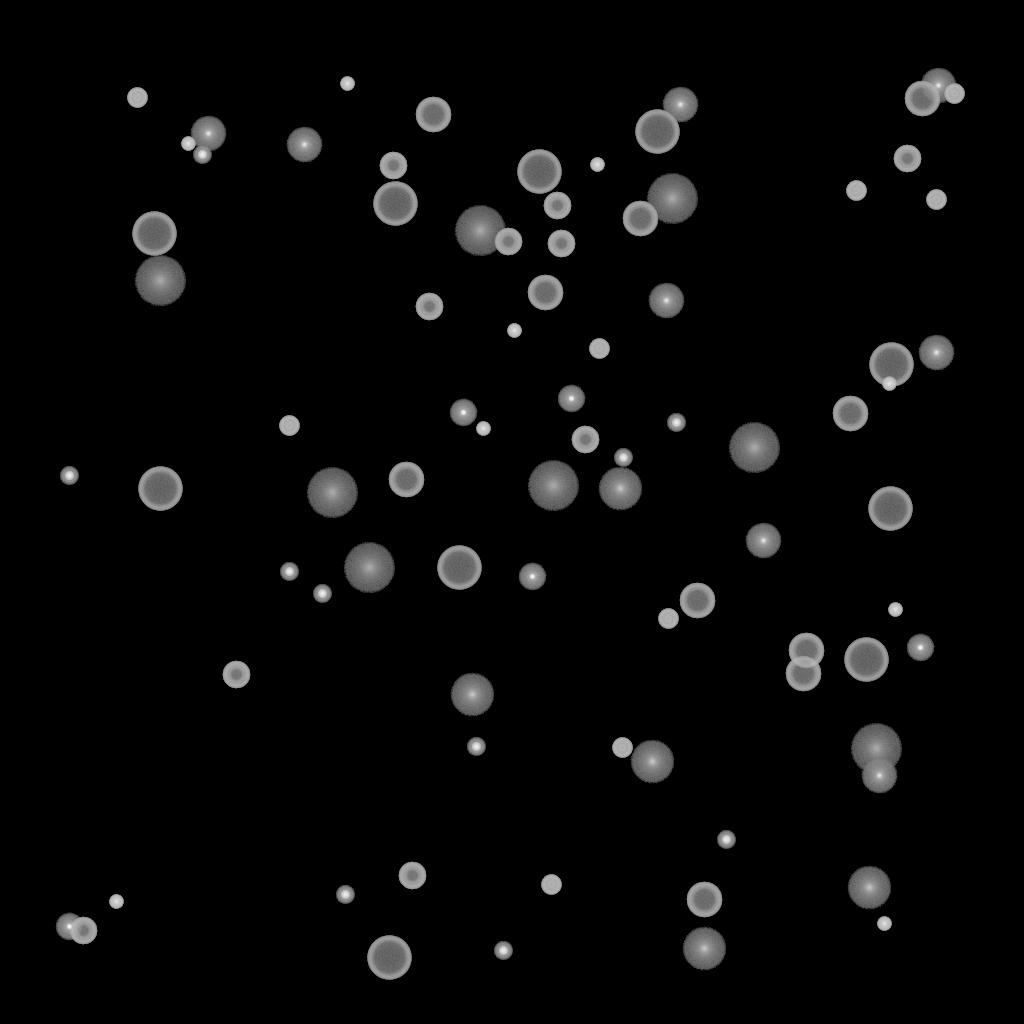depth:-10: (557, 385, 585, 413), (518, 563, 546, 591), (55, 913, 83, 941), (449, 399, 477, 427), (906, 634, 934, 662)
depth:-20: (667, 414, 685, 432), (193, 146, 211, 164), (280, 563, 298, 581), (494, 942, 512, 960), (614, 449, 632, 467), (336, 886, 354, 904), (313, 585, 331, 603), (467, 738, 485, 756), (717, 831, 735, 849), (60, 467, 78, 485)
depth:-30: (181, 137, 195, 151), (340, 77, 354, 91), (476, 422, 490, 436), (882, 377, 896, 391), (877, 917, 891, 931), (590, 158, 604, 172), (109, 895, 123, 909), (888, 603, 902, 617), (507, 324, 521, 338)
depth:-40: (279, 416, 299, 436), (589, 339, 609, 359), (846, 181, 866, 201), (944, 84, 964, 104), (612, 738, 632, 758), (127, 88, 147, 108), (658, 609, 678, 629), (541, 875, 561, 895), (926, 190, 946, 210)
depth:-50: (415, 293, 443, 321), (69, 917, 97, 945), (398, 862, 426, 890), (547, 230, 575, 258), (494, 228, 522, 256), (893, 145, 921, 173), (222, 661, 250, 689), (379, 152, 407, 180), (571, 426, 599, 454), (543, 192, 571, 220)
depth:-60: (622, 201, 658, 237), (832, 396, 868, 432), (527, 275, 563, 311), (686, 882, 722, 918), (415, 97, 451, 133), (904, 81, 940, 117), (679, 583, 715, 619), (388, 462, 424, 498), (788, 633, 824, 669), (785, 656, 821, 692)
depth:-70: (132, 212, 176, 256), (437, 546, 481, 590), (138, 467, 182, 511), (844, 638, 888, 682), (517, 150, 561, 194), (635, 110, 679, 154), (373, 182, 417, 226), (868, 487, 912, 531), (869, 343, 913, 387), (367, 936, 411, 980)
depth:0: (648, 283, 684, 319), (745, 523, 781, 559), (861, 758, 897, 794), (286, 127, 322, 163), (920, 68, 956, 104), (662, 87, 698, 123), (918, 335, 954, 371), (190, 116, 226, 152)
depth:10: (598, 467, 642, 511), (630, 740, 674, 784), (682, 927, 726, 971), (847, 866, 891, 910), (450, 673, 494, 717)
depth:20: (134, 256, 186, 306), (306, 468, 358, 518), (343, 543, 395, 593), (527, 461, 579, 511), (646, 174, 698, 224), (454, 206, 506, 256), (850, 724, 902, 774), (728, 423, 780, 473)
